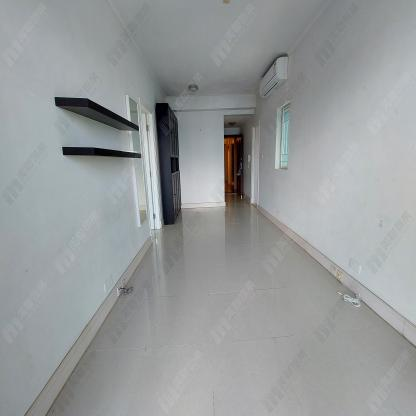AC: (259, 56, 288, 98)
Cupboard: (155, 103, 181, 226)
